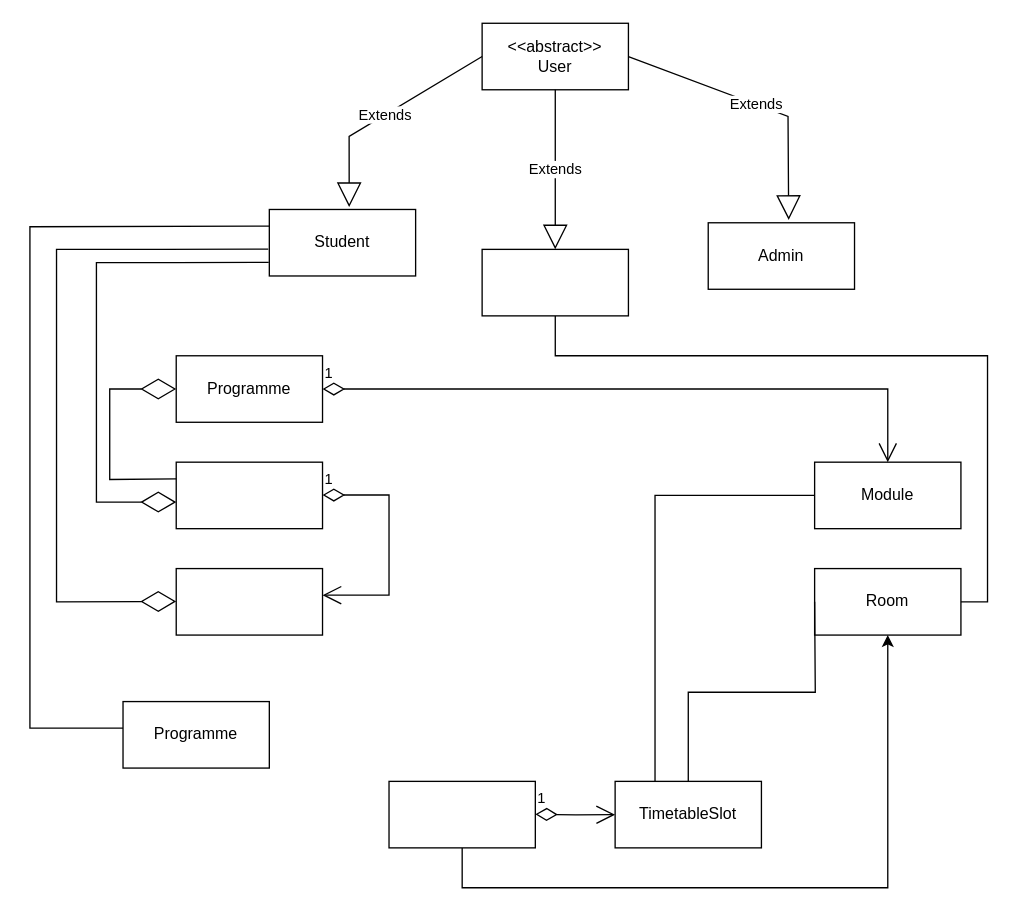
Image size: 1012x922. Some labels were removed from this diagram. Here are the shapes that lost their labels. From the top down, the centre of each, then its label:
At point 554,282: "Lecturer".
At point 249,495: "StudentGroup".
At point 249,601: "SubGroup".
At point 461,814: "Timetable".
